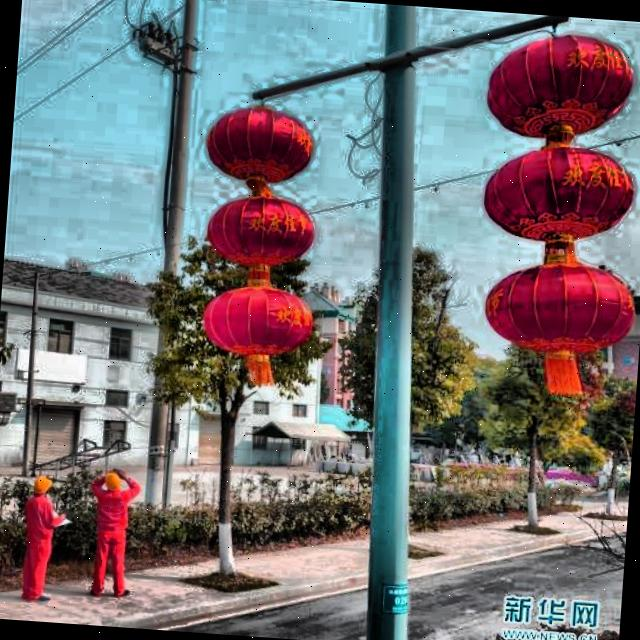helmet: (98, 466, 126, 503), (28, 473, 56, 505)
